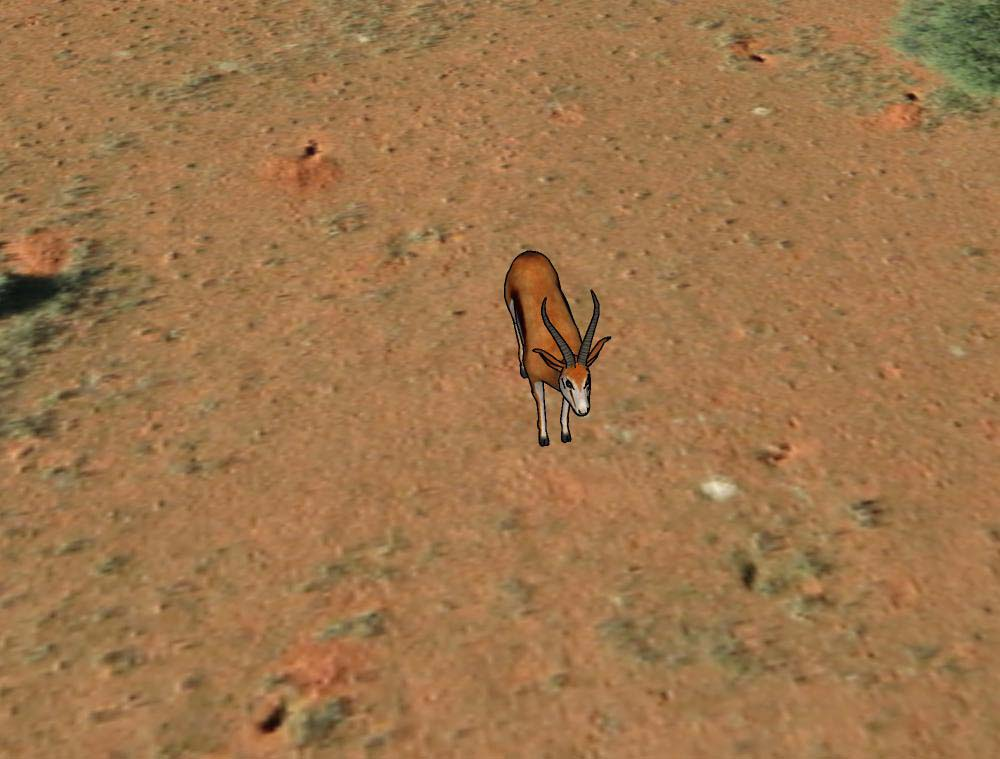springbok: (501, 245, 612, 452)
